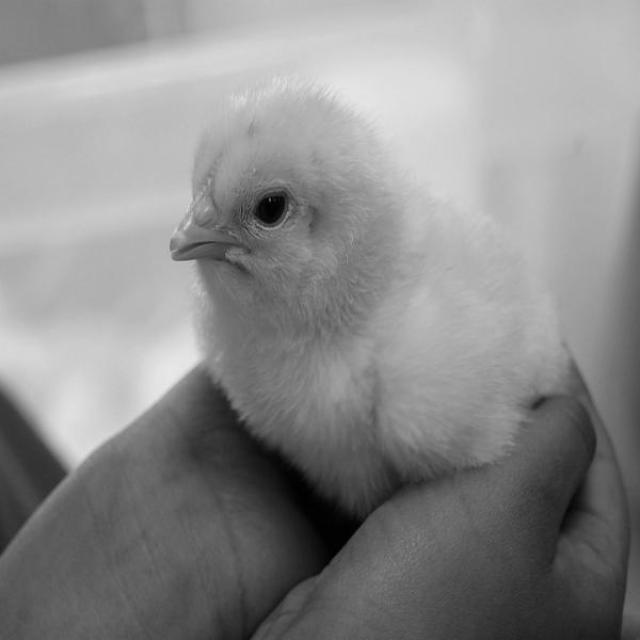poussin: (152, 64, 576, 502)
